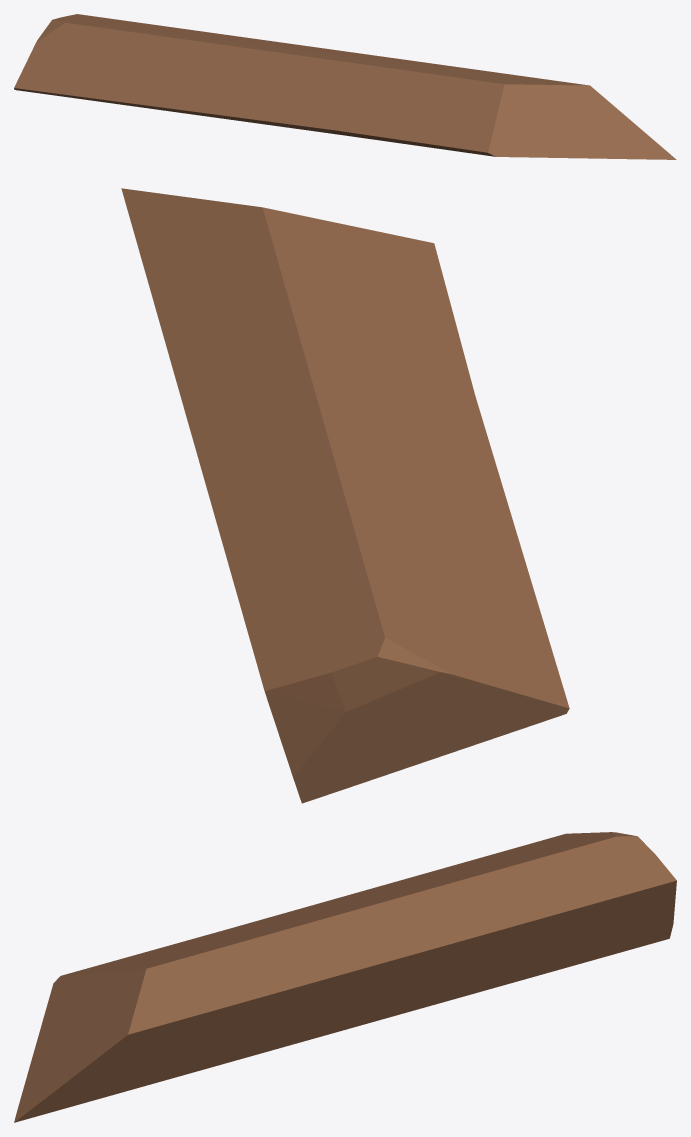
File: WoodCellCube_003_cell_020.fbx
The picture shows the model from 3 angles, top to bottom: view 1: azimuth 30°, elevation 25°; view 2: azimuth 150°, elevation 25°; view 3: azimuth 270°, elevation 25°; orthographic projection. The views are drawn at different scales.
Visible parts, largest first — view 1: WoodCellCube_003_cell_020; view 2: WoodCellCube_003_cell_020; view 3: WoodCellCube_003_cell_020.
Boxes of the visible parts, x1,y1,x2,y2 form: WoodCellCube_003_cell_020: [14, 14, 676, 159]; WoodCellCube_003_cell_020: [121, 188, 569, 803]; WoodCellCube_003_cell_020: [14, 832, 676, 1122].
Bounding box in the file's own units: 1.93 × 0.3514 × 1.84.
1 material, 1 textured.
